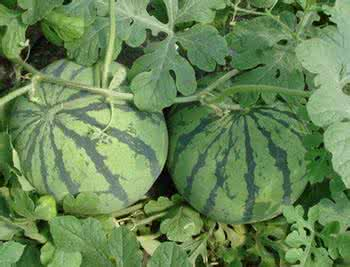watermelon: (5, 56, 169, 210), (163, 85, 310, 225)
